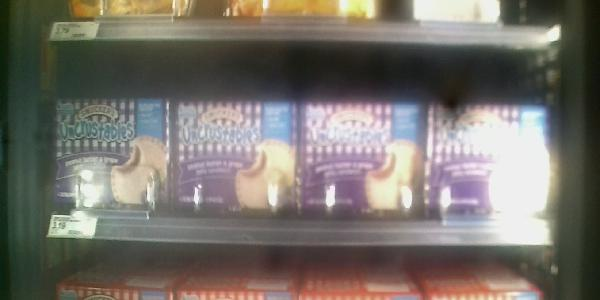icecream: (295, 90, 429, 241), (159, 87, 299, 227), (49, 96, 175, 233), (419, 101, 556, 226)
